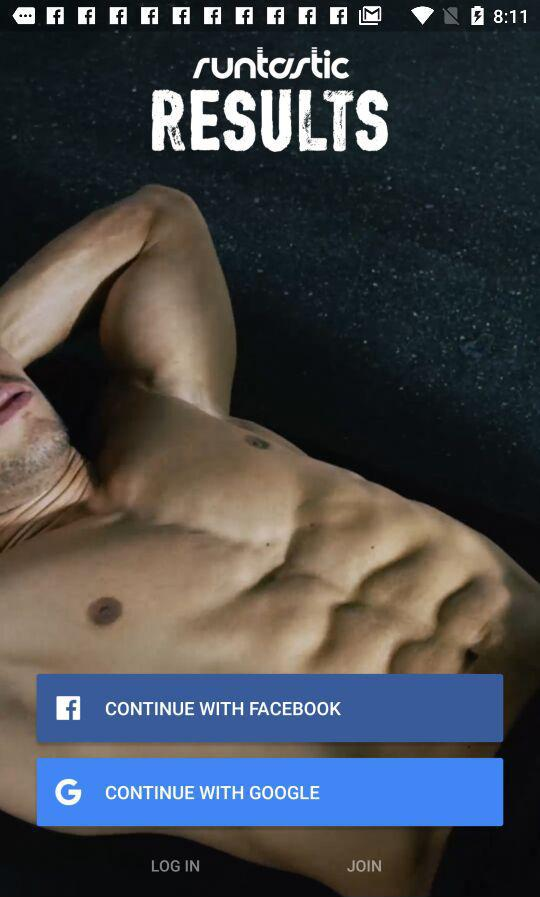BackgroundImage: (1, 29, 540, 897)
Image: (151, 46, 389, 154)
Text: (152, 859, 201, 873), (346, 859, 383, 874)
TextButton: (37, 758, 504, 827), (37, 674, 504, 743)
UpperTaskBar: (1, 1, 540, 29)
